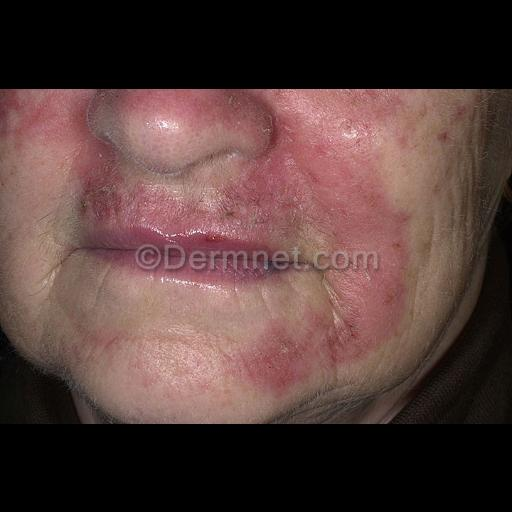Skin_Lesion: (282, 121, 388, 249), (62, 140, 126, 228), (251, 319, 309, 393), (320, 312, 370, 362), (225, 185, 273, 229), (336, 88, 382, 108), (202, 226, 230, 252), (394, 123, 414, 149), (452, 98, 472, 120), (266, 88, 290, 100), (415, 101, 431, 117), (393, 90, 409, 106), (394, 207, 412, 221), (34, 88, 58, 98), (438, 127, 452, 143), (430, 180, 444, 194), (402, 88, 420, 94)
